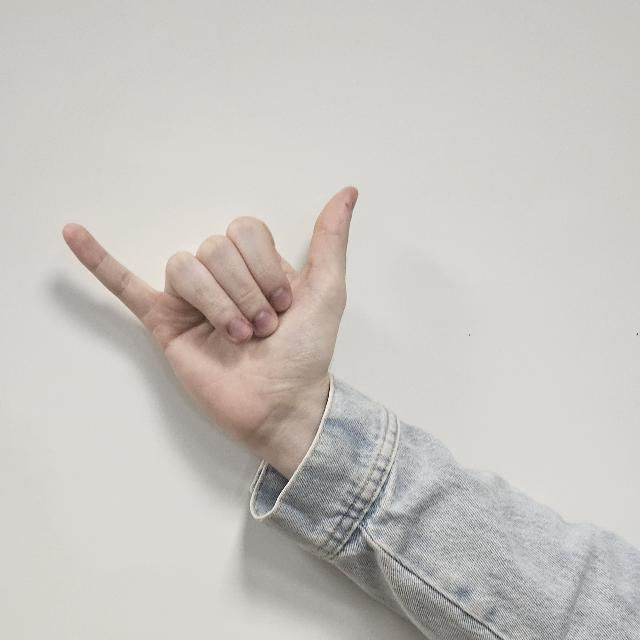Direita: (43, 188, 377, 468)
